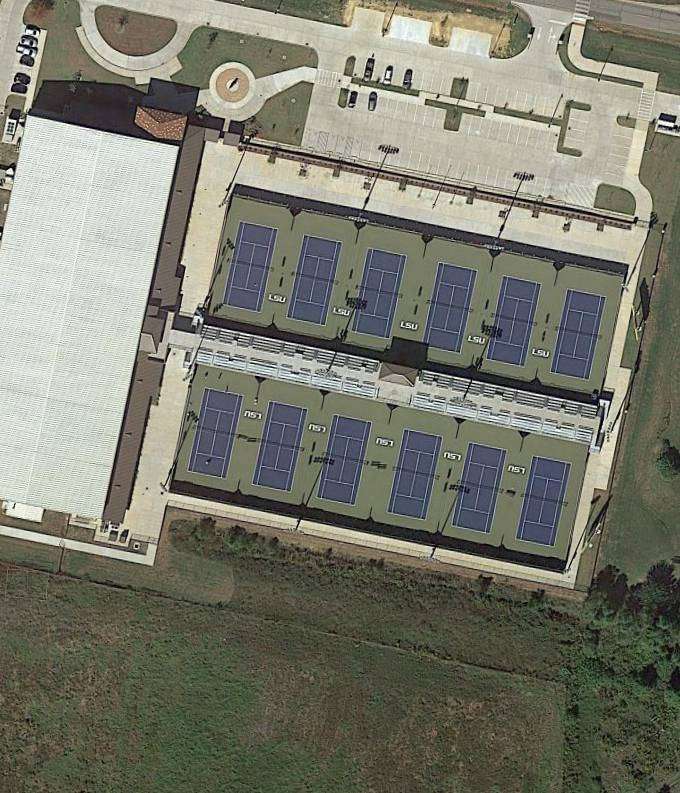tennis court: (250, 399, 311, 494), (549, 287, 609, 382), (385, 428, 445, 522), (514, 454, 574, 548), (421, 261, 480, 356), (350, 246, 409, 341), (221, 219, 280, 314), (186, 387, 245, 481), (315, 413, 374, 507), (450, 441, 509, 535), (285, 234, 344, 328), (486, 274, 544, 368)
